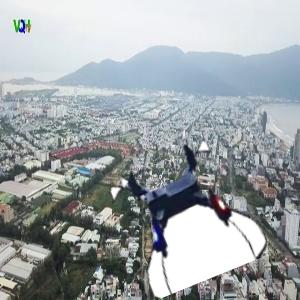drone: (114, 144, 255, 285)
